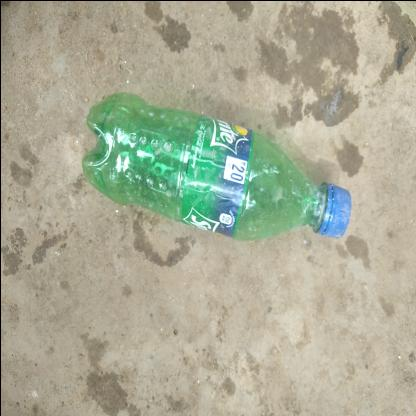bottle: (235, 1, 351, 332)
